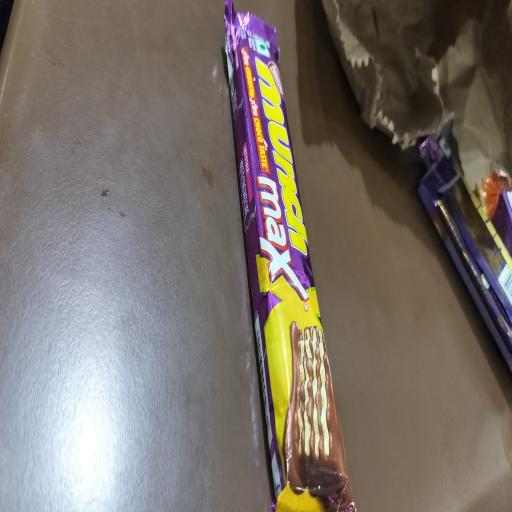chocolate: (222, 6, 354, 512)
munch: (250, 49, 316, 305)
